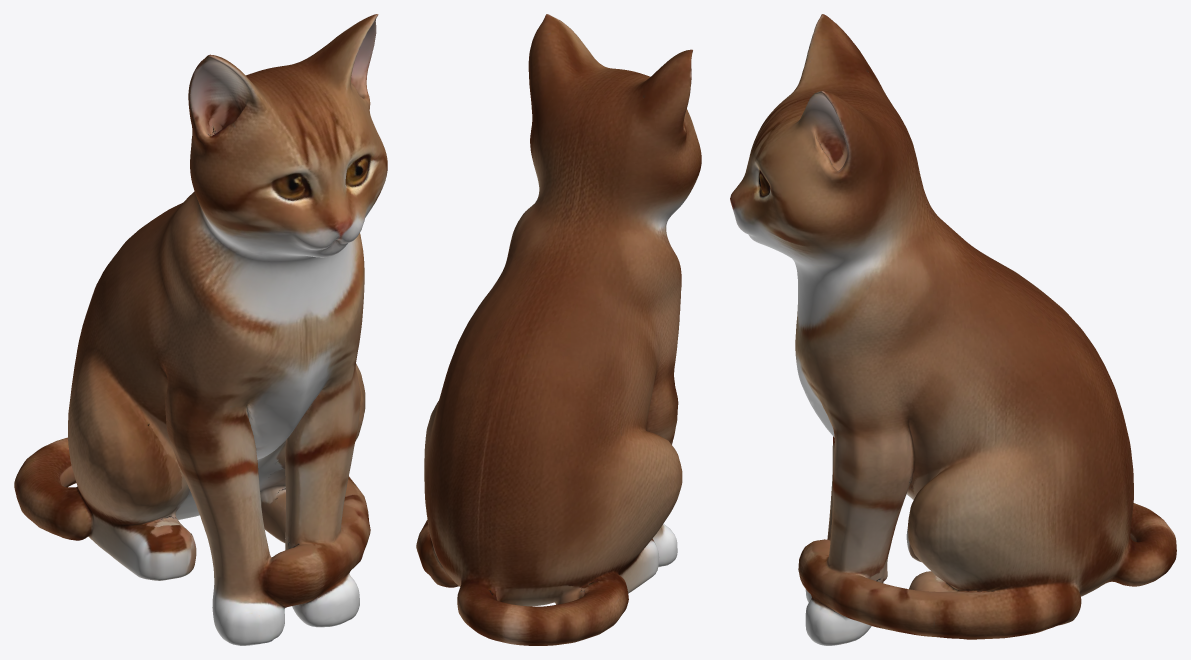
File: cat_sitting_alert.glb
3 renders of one model, left to right at view 1: azimuth 30°, elevation 25°; view 2: azimuth 150°, elevation 25°; view 3: azimuth 270°, elevation 25°, orthographic. The views are drawn at different scales.
Parts seen in each view (by area): view 1: model; view 2: model; view 3: model.
Boxes of the visible parts, x1,y1,x2,y2 form: model: (14, 14, 387, 645); model: (416, 14, 701, 645); model: (730, 14, 1176, 645).
Size of the model in its own units: 0.9008 by 1.9 by 1.36.
1 material, 1 textured.
